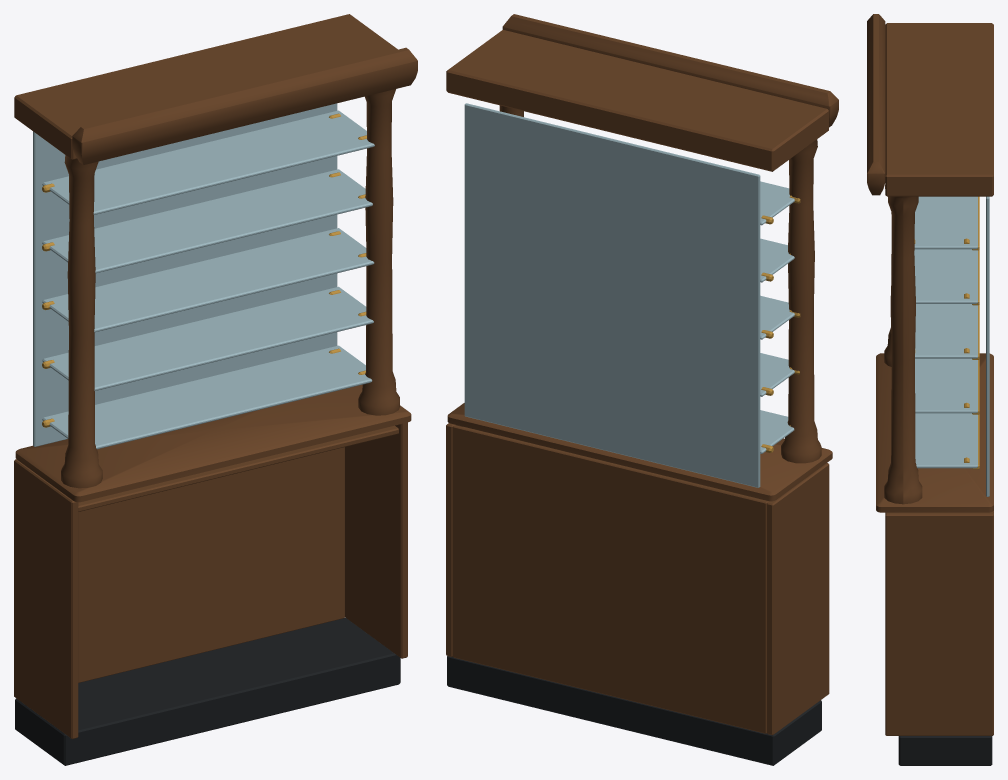
File: BackBarGlasses.obj
3 views of the same model, side by side, from view 1: azimuth 30°, elevation 25°; view 2: azimuth 150°, elevation 25°; view 3: azimuth 270°, elevation 25° (orthographic). The views are drawn at different scales.
Visible parts, largest first — view 1: back-bar-glass-shelf-run_1, back-bar-glass-shelf-run_2, back-bar-glass-shelf-run_0, back-bar-glass-shelf-run_3; view 2: back-bar-glass-shelf-run_1, back-bar-glass-shelf-run_2, back-bar-glass-shelf-run_0; view 3: back-bar-glass-shelf-run_1, back-bar-glass-shelf-run_2, back-bar-glass-shelf-run_0, back-bar-glass-shelf-run_3.
Boxes of the visible parts, x1,y1,x2,y2 form: back-bar-glass-shelf-run_1: [14, 14, 417, 738]; back-bar-glass-shelf-run_2: [33, 103, 374, 449]; back-bar-glass-shelf-run_0: [15, 617, 400, 765]; back-bar-glass-shelf-run_3: [42, 113, 366, 427]; back-bar-glass-shelf-run_1: [446, 14, 838, 735]; back-bar-glass-shelf-run_2: [464, 103, 794, 487]; back-bar-glass-shelf-run_0: [447, 656, 821, 765]; back-bar-glass-shelf-run_1: [867, 14, 993, 735]; back-bar-glass-shelf-run_2: [914, 196, 989, 496]; back-bar-glass-shelf-run_0: [898, 736, 992, 765]; back-bar-glass-shelf-run_3: [914, 196, 979, 469].
Size of the model in its own units: 1.2 by 2.2 by 0.42.
